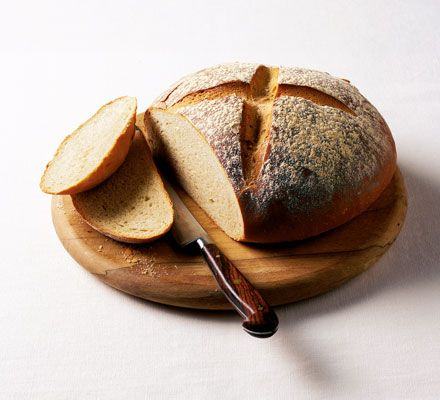Bread: (153, 49, 412, 225), (27, 85, 184, 231)
